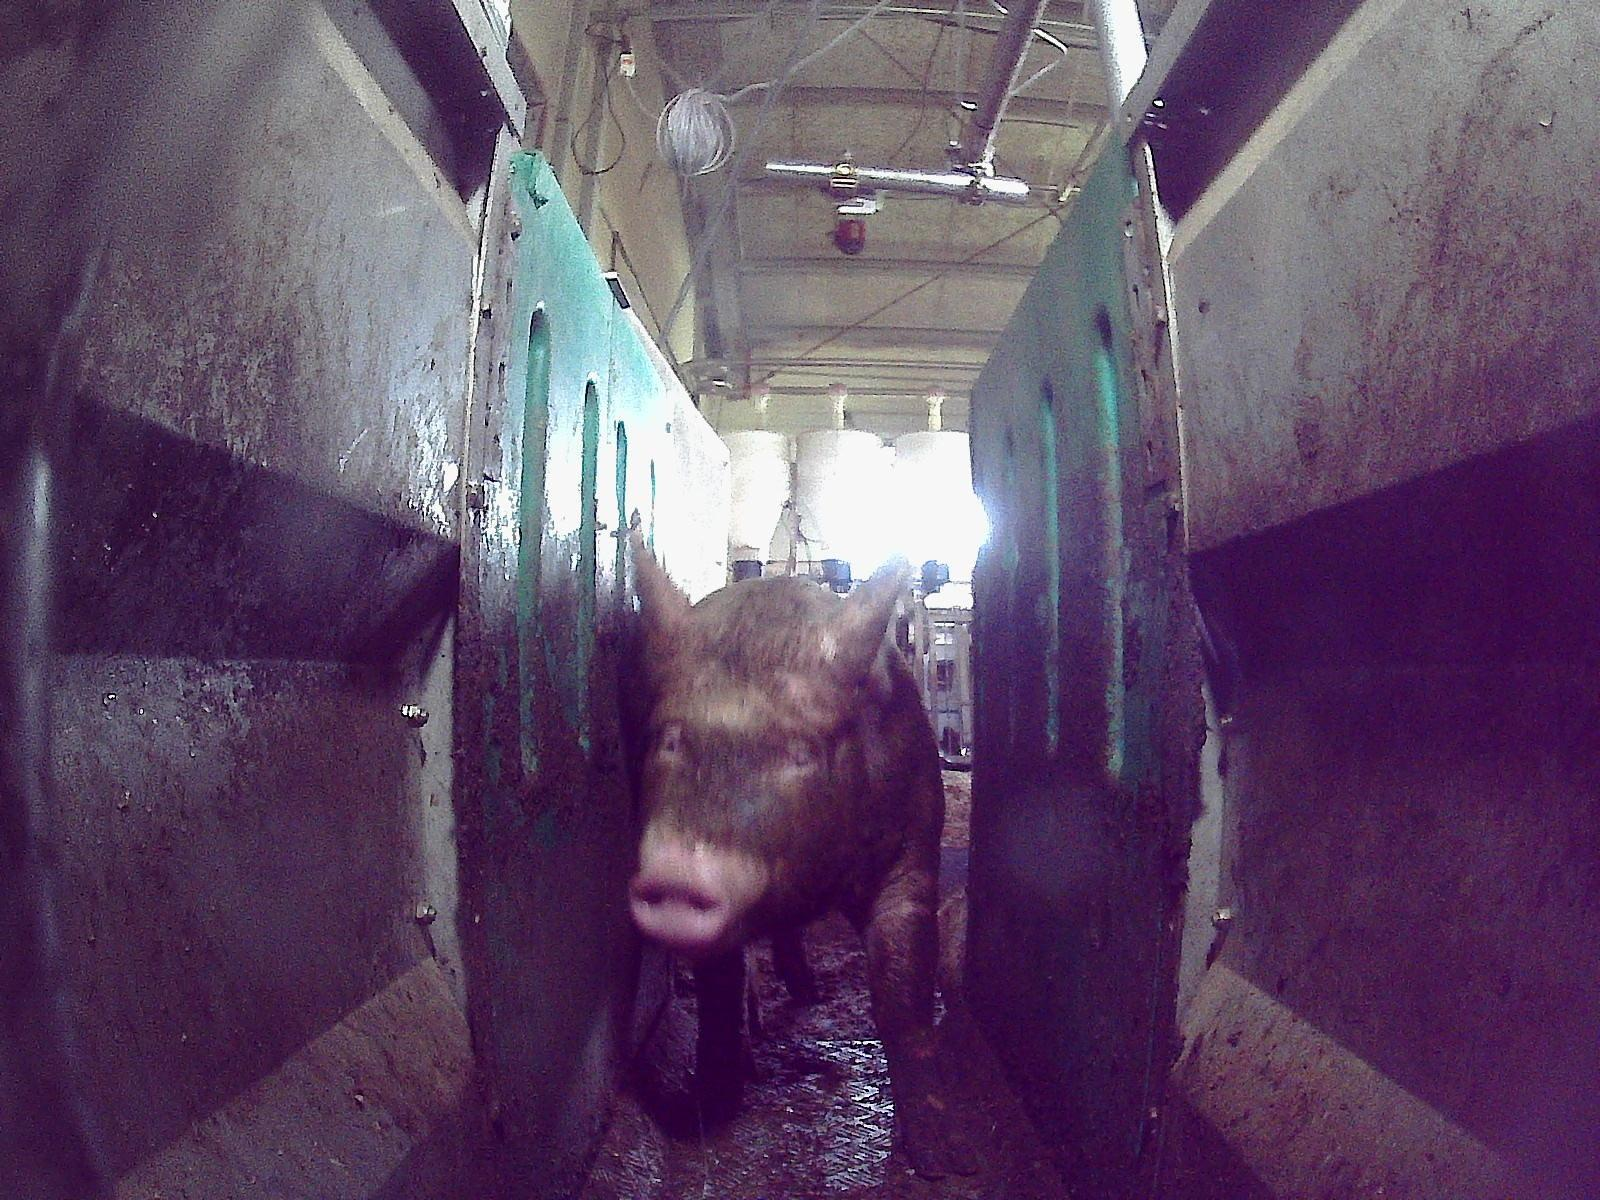Face: (622, 611, 854, 957)
